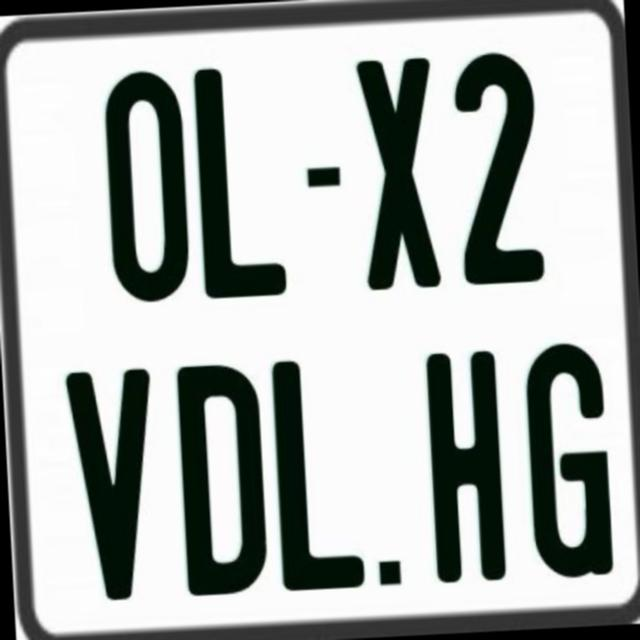0: (98, 66, 196, 301)
2: (452, 51, 546, 295)
D: (176, 358, 272, 600)
G: (522, 342, 613, 583)
H: (423, 348, 506, 581)
L: (190, 65, 290, 298), (271, 353, 366, 590)
V: (60, 364, 164, 597)
X: (356, 57, 446, 296)
